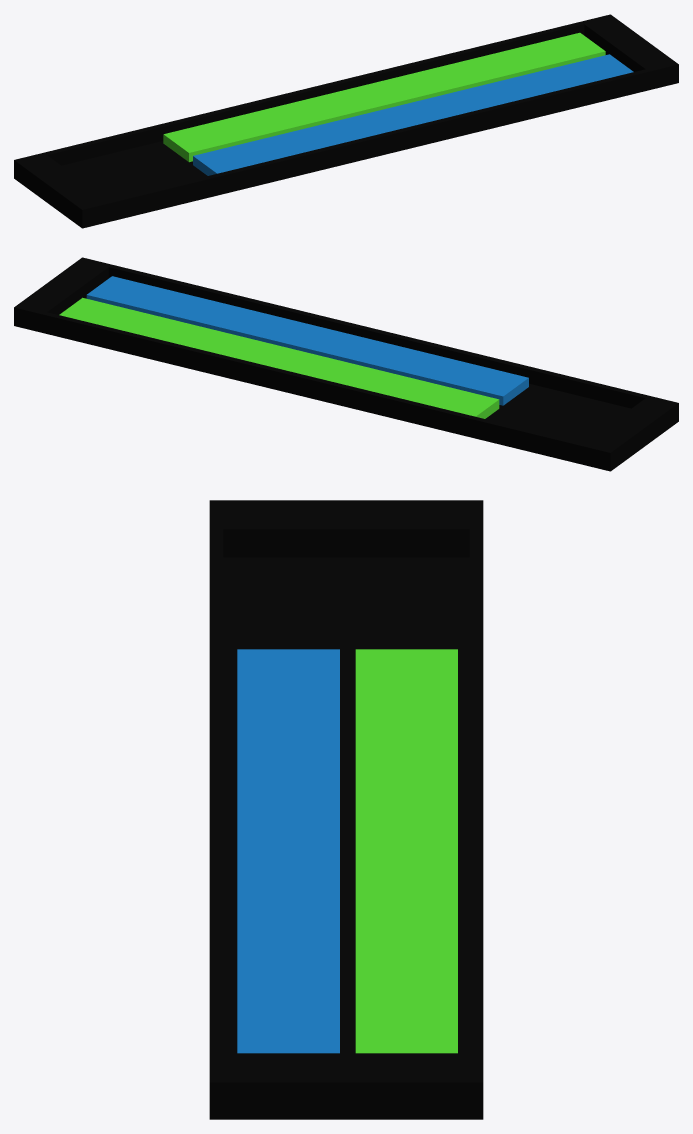
The model's file is CharacterBars.fbx.
3 renders of one model, top to bottom at view 1: azimuth 30°, elevation 25°; view 2: azimuth 150°, elevation 25°; view 3: azimuth 270°, elevation 25°, orthographic. The views are drawn at different scales.
Visible parts, largest first — view 1: BarsFrame, HealthBar, ShieldsBar; view 2: BarsFrame, ShieldsBar, HealthBar; view 3: BarsFrame, ShieldsBar, HealthBar.
Boxes of the visible parts, left/top/right/bottom form: BarsFrame: left=14, top=14, right=678, bottom=228; HealthBar: left=163, top=32, right=605, bottom=162; ShieldsBar: left=193, top=54, right=633, bottom=175; BarsFrame: left=14, top=257, right=678, bottom=471; ShieldsBar: left=86, top=276, right=528, bottom=405; HealthBar: left=59, top=297, right=499, bottom=418; BarsFrame: left=209, top=500, right=483, bottom=1119; ShieldsBar: left=237, top=649, right=339, bottom=1053; HealthBar: left=355, top=649, right=457, bottom=1053.
Bounding box in the file's own units: 673 × 134 × 20.
